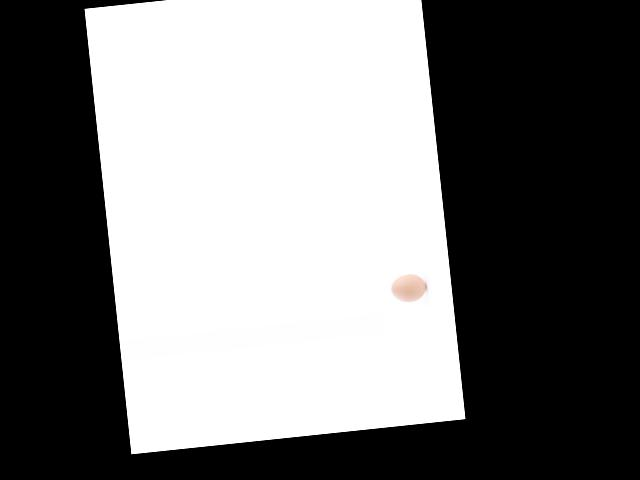egg: (390, 273, 427, 304)
